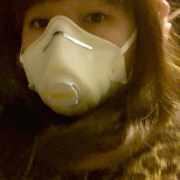OK: (22, 5, 137, 118)
